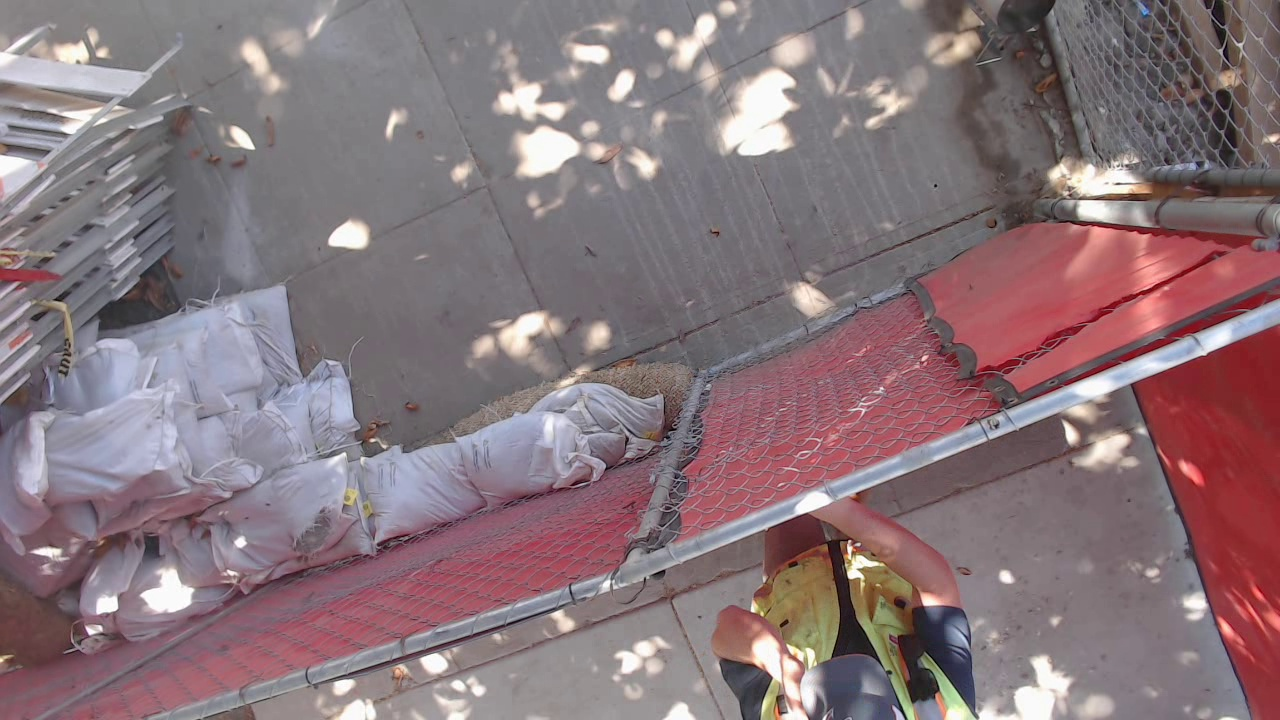person: (861, 155, 1049, 410)
safetyvest: (804, 208, 1042, 408)
